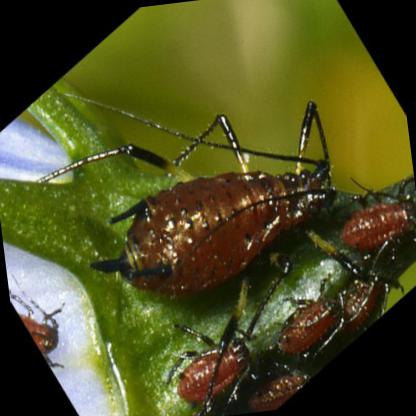uroleucon compositae: (45, 99, 336, 301)
